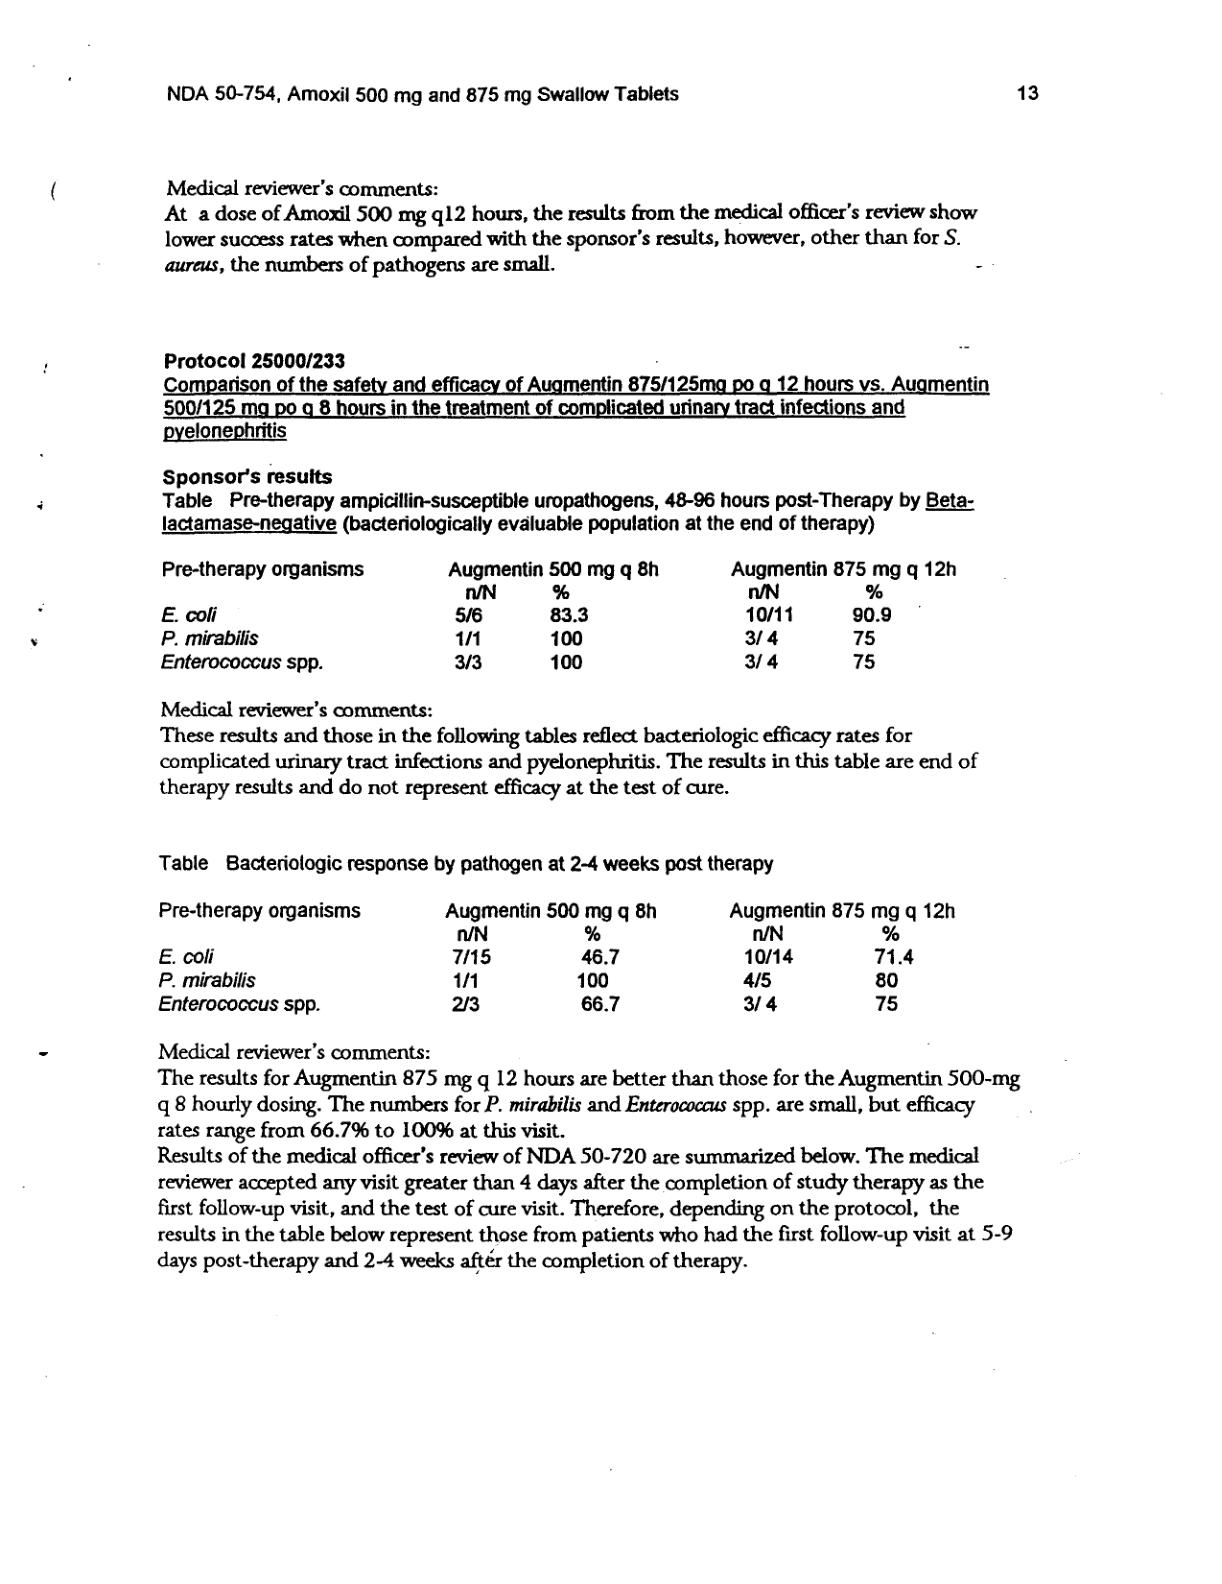nolines: (157, 900, 958, 1013), (160, 558, 958, 667)
